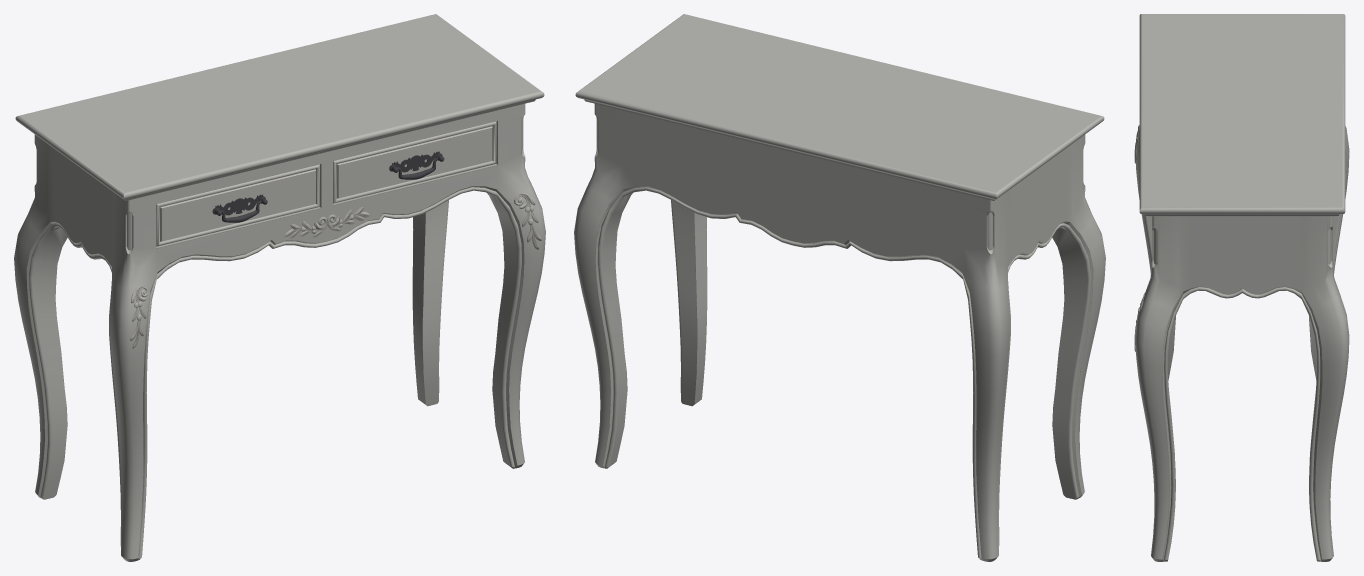
File: example149.gltf
3 views of the same model, side by side, from view 1: azimuth 30°, elevation 25°; view 2: azimuth 150°, elevation 25°; view 3: azimuth 270°, elevation 25° (orthographic). The views are drawn at different scales.
Size of the model in its own units: 91.51 by 77 by 41.76.
Materials: 2 (2 with a texture image).
